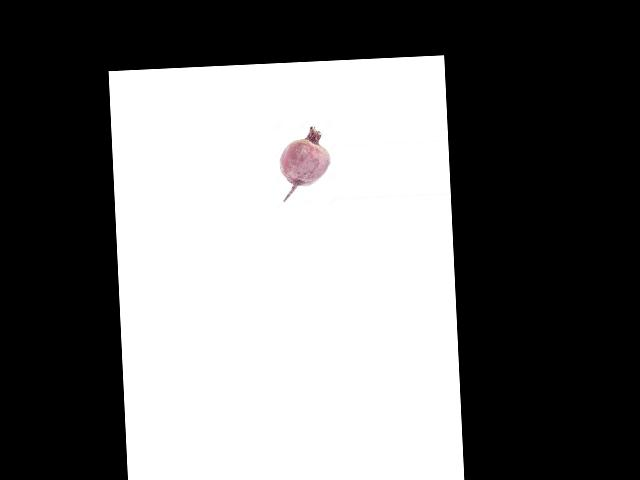beet: (277, 124, 331, 201)
